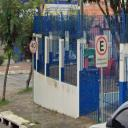speed_limit_40: (29, 38, 38, 54)
